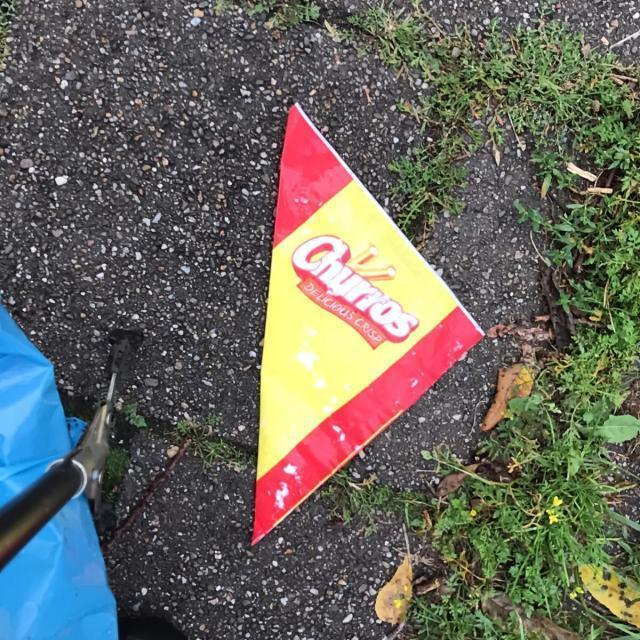Paper: (247, 99, 487, 550)
